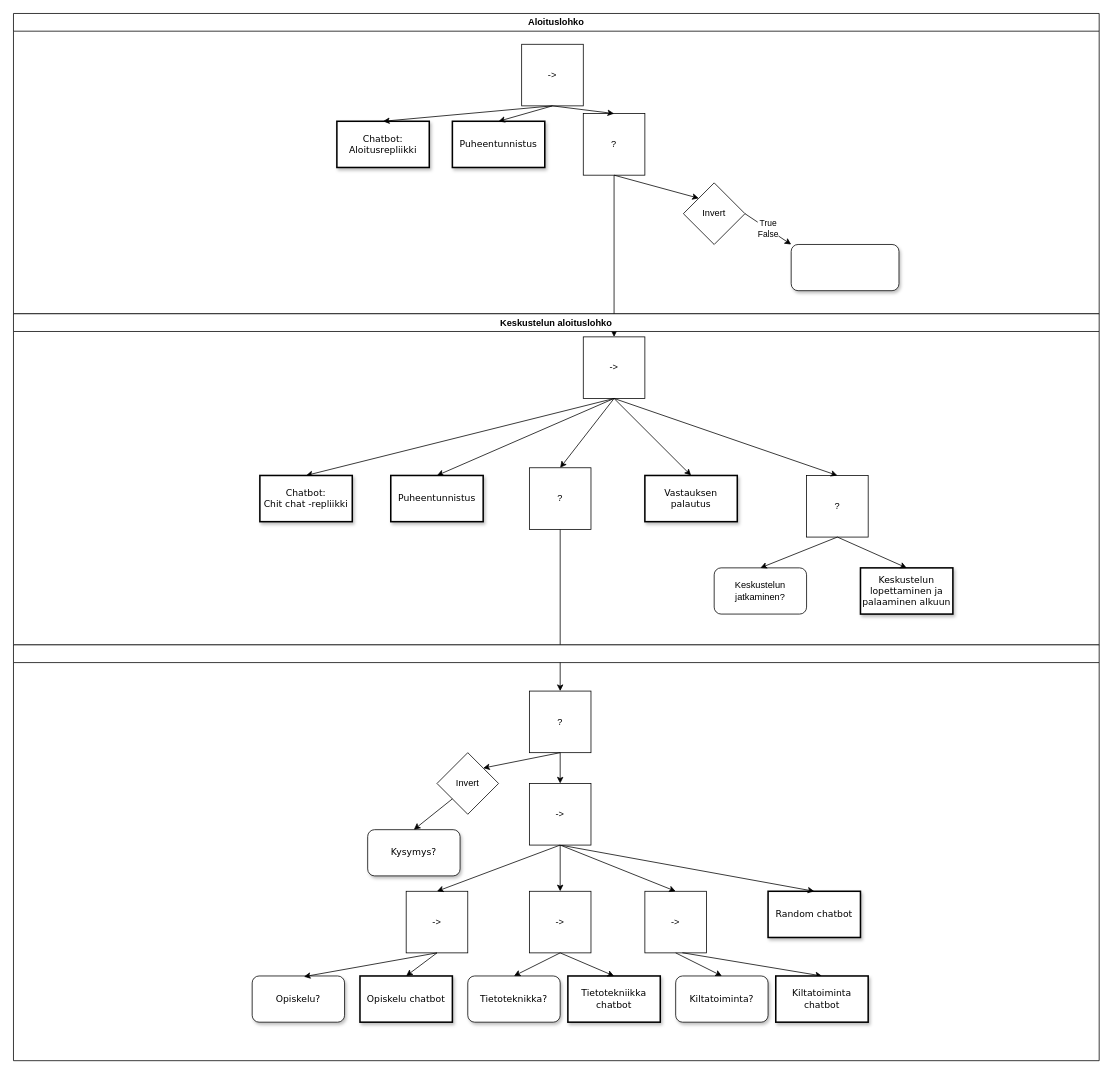
The diagram is 1113 pixels wide and 1074 high, and some of its shapes have lost their labels. The centre of each missing label's shape, as x and y in pixels:
"Haluatko keskustella chatbotin kanssa?" belongs at (845,268).
"Kysymyslohko" belongs at (556,852).
